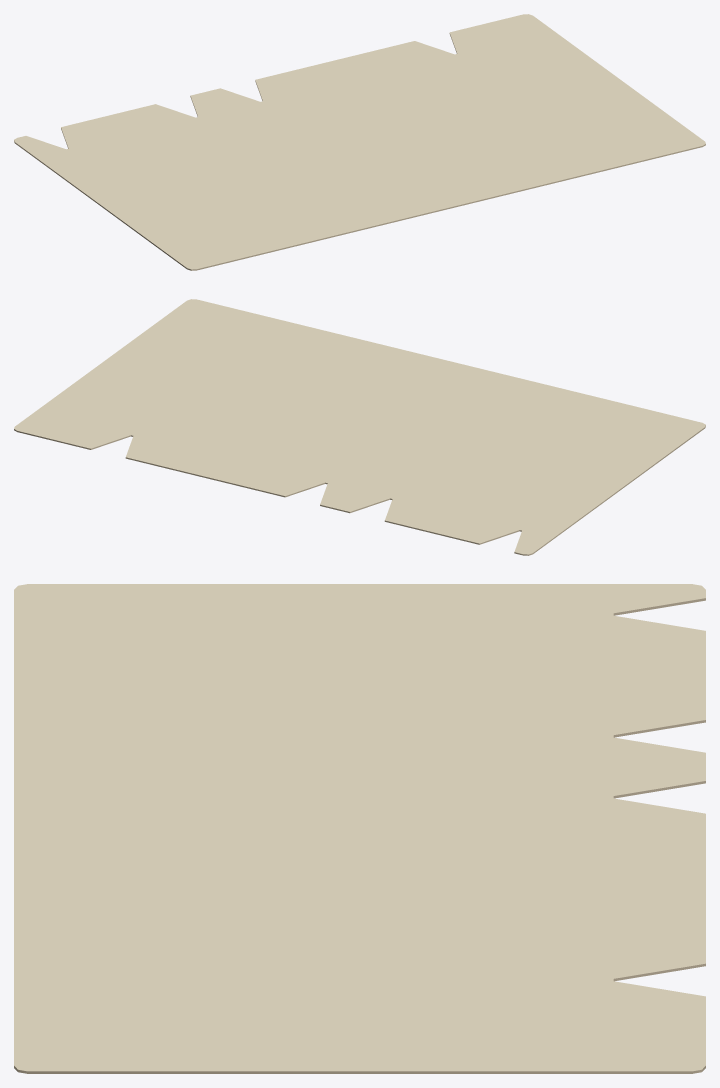
File: index_card.glb
3 views of the same model, one above another, from view 1: azimuth 30°, elevation 25°; view 2: azimuth 150°, elevation 25°; view 3: azimuth 270°, elevation 25° (orthographic). The views are drawn at different scales.
Parts seen in each view (by area): view 1: card_face, index_card; view 2: card_face, index_card; view 3: card_face, index_card.
Boxes of the visible parts, x1=… form: card_face: x1=14, y1=14, x2=705, y2=269; index_card: x1=14, y1=33, x2=705, y2=270; card_face: x1=14, y1=299, x2=705, y2=554; index_card: x1=14, y1=425, x2=705, y2=555; card_face: x1=14, y1=584, x2=705, y2=1071; index_card: x1=14, y1=598, x2=705, y2=1073.
Size of the model in its own units: 0.125 by 0.0003 by 0.075.
